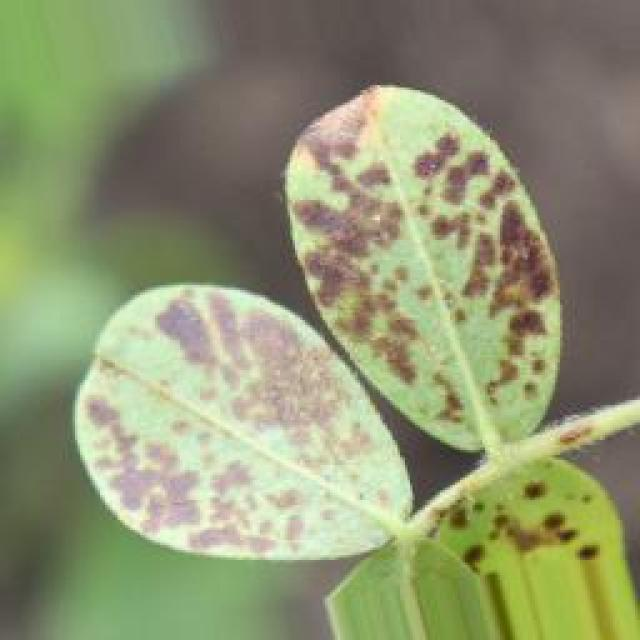Whitefly: (95, 86, 587, 608)
